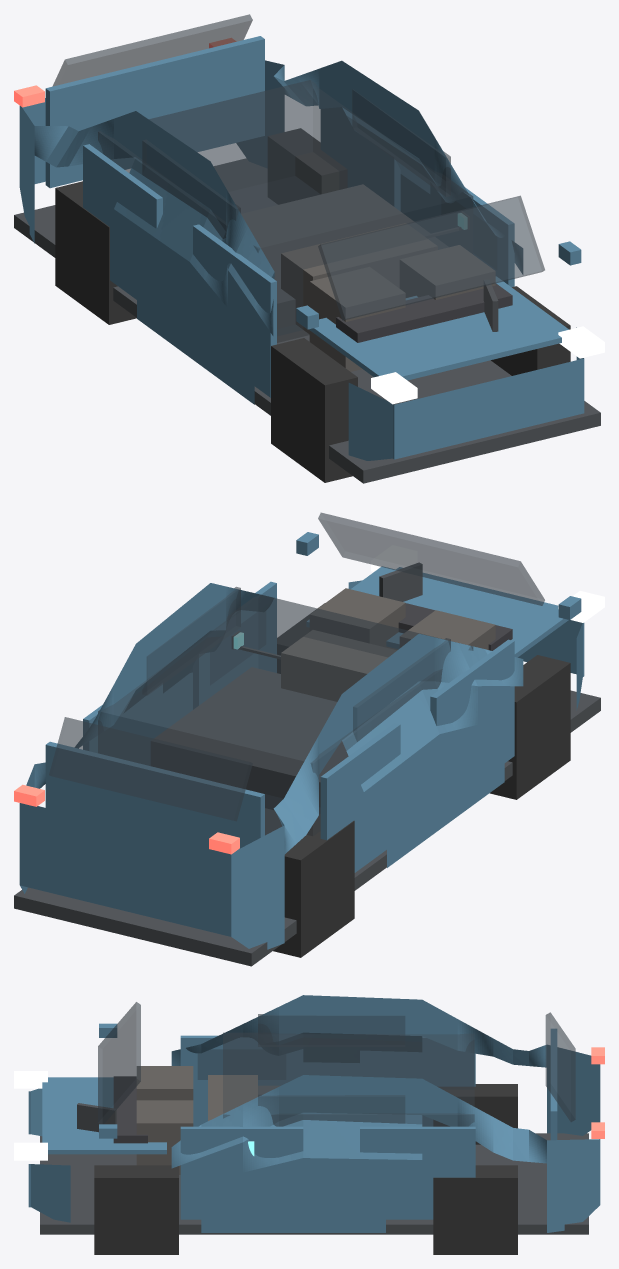
Rendered from suv.b6aed712d9.glb.
The picture shows the model from 3 angles, top to bottom: view 1: azimuth 30°, elevation 25°; view 2: azimuth 150°, elevation 25°; view 3: azimuth 270°, elevation 25°; orthographic projection. The views are drawn at different scales.
Parts seen in each view (by area): view 1: body_mesh, cab_mesh, windshield, liftgate_mesh, trim_mesh, frunk_mesh, tire_fr, wheel_well_mesh, tire_rr, seat_rear, door_rr_mesh, rear_glass (+12 smaller); view 2: body_mesh, cab_mesh, wheel_well_mesh, liftgate_mesh, rear_glass, trim_mesh, windshield, tire_rr, tire_fr, door_rr_mesh, frunk_mesh, seat_rear (+12 smaller); view 3: body_mesh, cab_mesh, trim_mesh, tire_fl, door_rl_mesh, tire_rl, frunk_mesh, door_fr_mesh, window_fixed_r, door_fl_mesh, door_rr_mesh, window_fixed_l (+12 smaller).
Boxes of the visible parts, x1=… form: body_mesh: x1=19, y1=60, x2=584, y2=460; cab_mesh: x1=98, y1=80, x2=473, y2=336; windshield: x1=318, y1=195, x2=544, y2=320; liftgate_mesh: x1=45, y1=36, x2=264, y2=188; trim_mesh: x1=14, y1=158, x2=600, y2=483; frunk_mesh: x1=309, y1=276, x2=568, y2=380; tire_fr: x1=271, y1=338, x2=357, y2=482; wheel_well_mesh: x1=241, y1=184, x2=447, y2=342; tire_rr: x1=55, y1=181, x2=136, y2=324; seat_rear: x1=281, y1=223, x2=437, y2=334; door_rr_mesh: x1=83, y1=144, x2=162, y2=299; rear_glass: x1=52, y1=14, x2=252, y2=86; body_mesh: x1=19, y1=580, x2=584, y2=949; cab_mesh: x1=98, y1=595, x2=473, y2=835; wheel_well_mesh: x1=151, y1=667, x2=348, y2=813; liftgate_mesh: x1=45, y1=741, x2=264, y2=848; rear_glass: x1=49, y1=717, x2=252, y2=821; trim_mesh: x1=14, y1=690, x2=600, y2=966; windshield: x1=318, y1=512, x2=544, y2=605; tire_rr: x1=273, y1=814, x2=354, y2=957; tire_fr: x1=490, y1=655, x2=570, y2=799; door_rr_mesh: x1=320, y1=723, x2=400, y2=872; frunk_mesh: x1=306, y1=566, x2=568, y2=657; seat_rear: x1=281, y1=630, x2=396, y2=701; body_mesh: x1=28, y1=995, x2=600, y2=1232; cab_mesh: x1=223, y1=1032, x2=474, y2=1126; trim_mesh: x1=40, y1=1133, x2=588, y2=1234; tire_fl: x1=94, y1=1165, x2=178, y2=1254; door_rl_mesh: x1=360, y1=1126, x2=475, y2=1219; tire_rl: x1=433, y1=1165, x2=517, y2=1254; frunk_mesh: x1=42, y1=1077, x2=166, y2=1154; door_fr_mesh: x1=180, y1=1035, x2=302, y2=1126; window_fixed_r: x1=258, y1=1014, x2=404, y2=1046; door_fl_mesh: x1=180, y1=1126, x2=303, y2=1219; door_rr_mesh: x1=360, y1=1036, x2=475, y2=1126; window_fixed_l: x1=258, y1=1094, x2=404, y2=1126.
Bounding box in the file's own units: 2.19 × 1.68 × 5.21.
